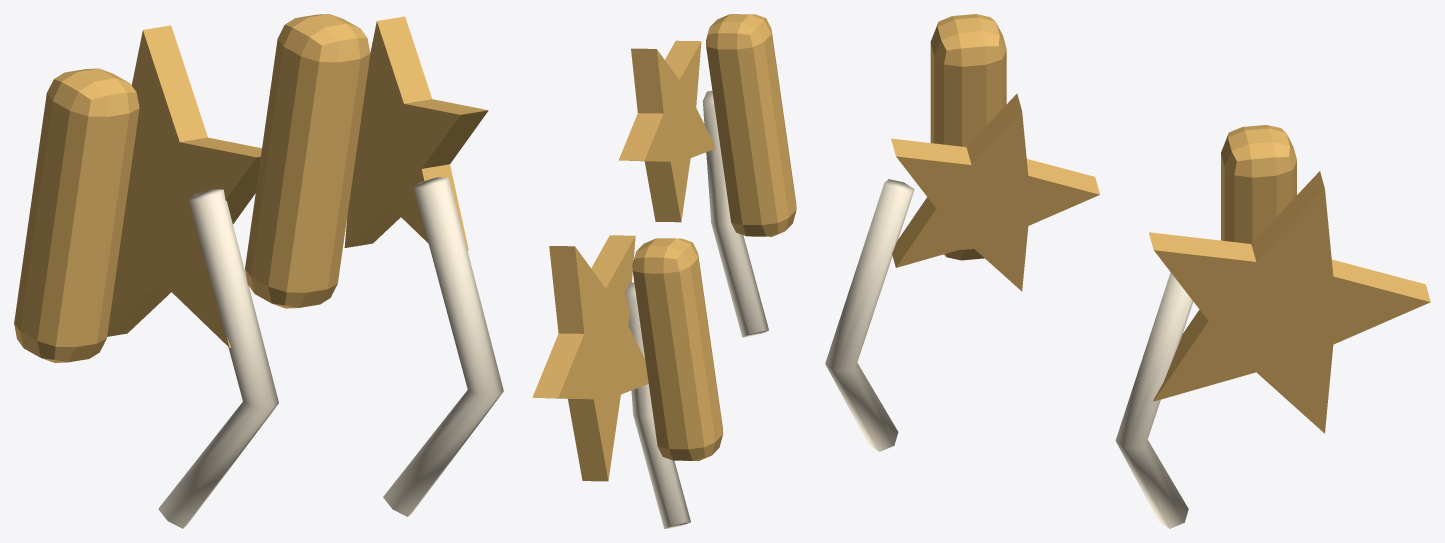
File: shooting-stars.glb
The picture shows the model from 3 angles, left to right: view 1: azimuth 30°, elevation 25°; view 2: azimuth 150°, elevation 25°; view 3: azimuth 270°, elevation 25°; orthographic projection. The views are drawn at different scales.
Visible parts, largest first — view 1: SHOP_shooting-stars_optimized; view 2: SHOP_shooting-stars_optimized; view 3: SHOP_shooting-stars_optimized.
Boxes of the visible parts, <box> form: SHOP_shooting-stars_optimized: <box>14,14,503,528</box>; SHOP_shooting-stars_optimized: <box>532,14,796,528</box>; SHOP_shooting-stars_optimized: <box>825,14,1430,528</box>.
Size of the model in its own units: 0.0327 by 0.0699 by 0.0742.
